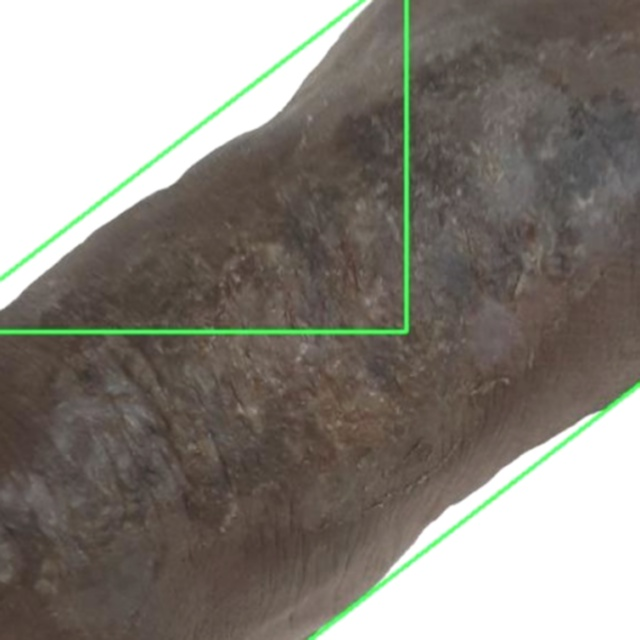Contact Dermatitis: (0, 0, 639, 639), (0, 0, 406, 331)
